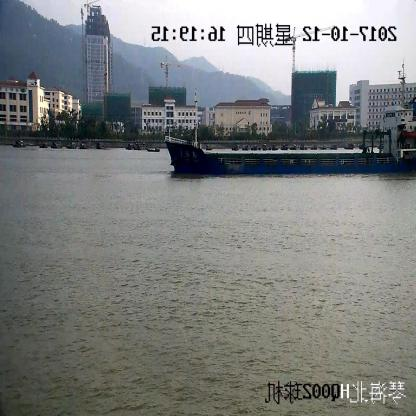Bulk Carrier: (167, 64, 416, 175)
